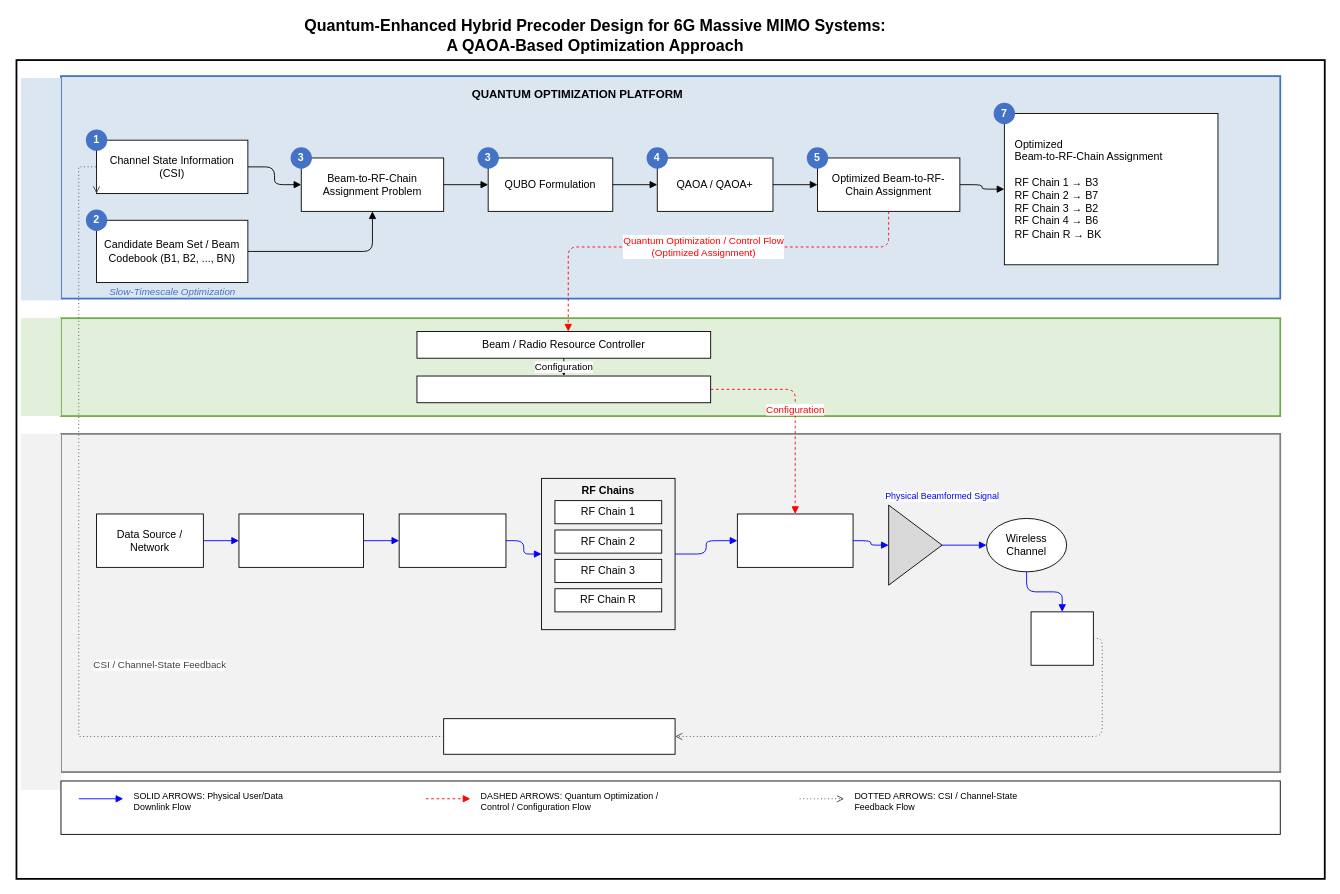
Some shapes in this 1340 by 894 pixel diagram are drawn without their labels. Here are the shapes that lost their labels. From the top down, the centre of each, then its label:
At [40,188]: "MANAGEMENT PLANE".
At [40,367]: "CONTROL PLANE".
At [563,389]: "Analog Precoder Configuration (F_RF)".
At [301,540]: "6G RAN / gNB Downlink Transmitter".
At [452,540]: "Digital Precoder (F_BB)".
At [794,540]: "Analog Precoder (F_RF)".
At [915,544]: "Massive MIMO Antenna Array".
At [40,611]: "USER PLANE".
At [1061,638]: "UE (Downlink Receiver)".
At [559,736]: "gNB / Channel Estimation".
